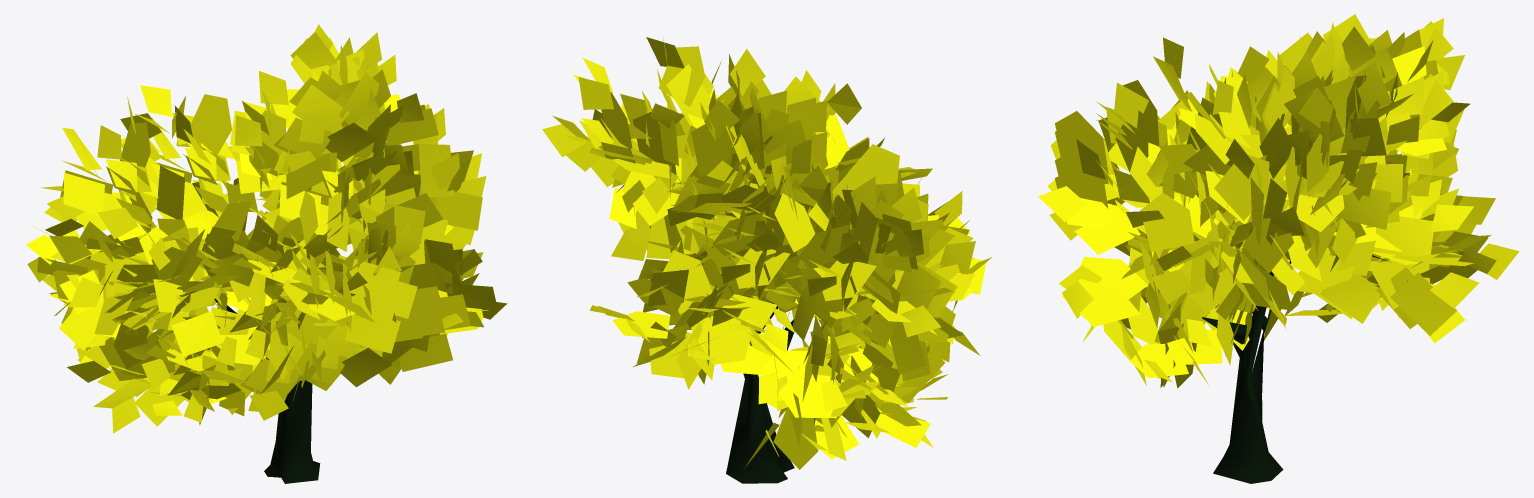
File: Cherry_tree.glb
The picture shows the model from 3 angles, left to right: view 1: azimuth 30°, elevation 25°; view 2: azimuth 150°, elevation 25°; view 3: azimuth 270°, elevation 25°; orthographic projection. The views are drawn at different scales.
Parts seen in each view (by area): view 1: 3d66-Editable_mesh-23293323-002, 3d66-Editable_mesh-23293323-001; view 2: 3d66-Editable_mesh-23293323-002, 3d66-Editable_mesh-23293323-001; view 3: 3d66-Editable_mesh-23293323-002, 3d66-Editable_mesh-23293323-001.
Part boxes in pixels (box(x1,y1,x2,y2)): 3d66-Editable_mesh-23293323-002: box(26, 24, 507, 433); 3d66-Editable_mesh-23293323-001: box(183, 154, 320, 483); 3d66-Editable_mesh-23293323-002: box(542, 37, 992, 469); 3d66-Editable_mesh-23293323-001: box(709, 274, 794, 483); 3d66-Editable_mesh-23293323-002: box(1038, 14, 1519, 388); 3d66-Editable_mesh-23293323-001: box(1202, 251, 1389, 483).
Size of the model in its own units: 0.6451 by 0.6038 by 0.5834.
